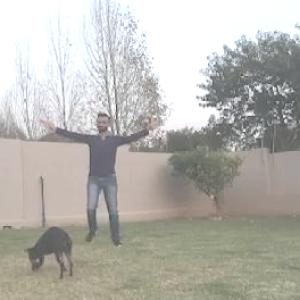takeoff: (30, 110, 156, 254)
